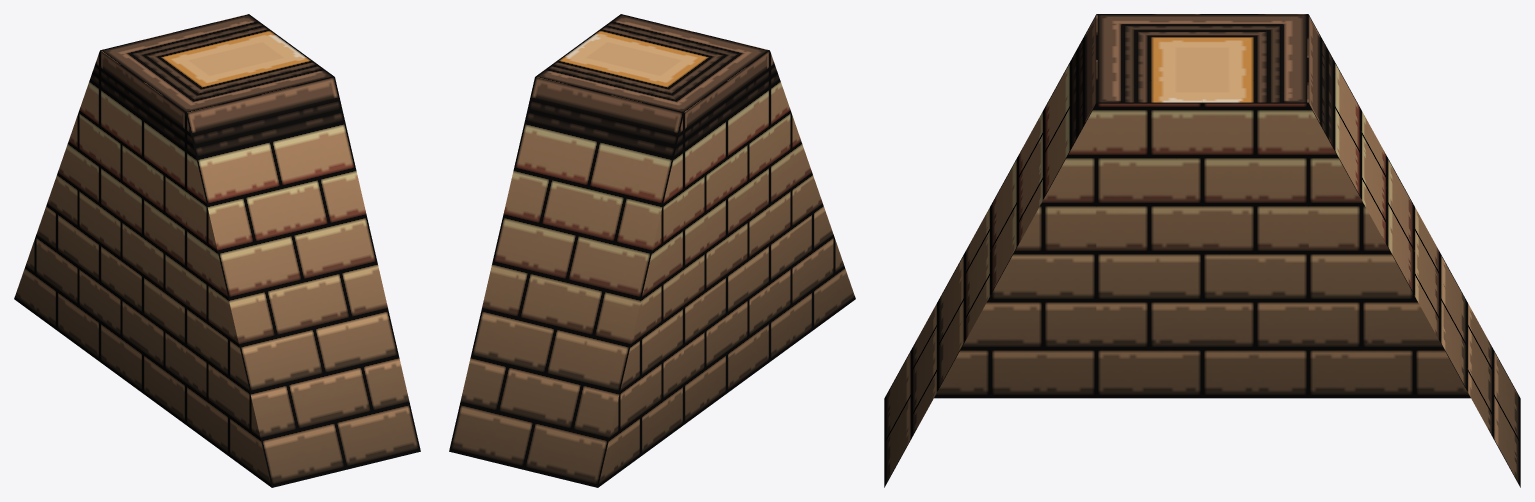
The model's file is wall_edgeAll.FBX.
The picture shows the model from 3 angles, left to right: view 1: azimuth 30°, elevation 25°; view 2: azimuth 150°, elevation 25°; view 3: azimuth 270°, elevation 25°; orthographic projection. The views are drawn at different scales.
Parts seen in each view (by area): view 1: wall_edgeAll; view 2: wall_edgeAll; view 3: wall_edgeAll.
Part boxes in pixels (x1,y1,x2,y2): wall_edgeAll: [14, 14, 420, 487]; wall_edgeAll: [449, 14, 855, 487]; wall_edgeAll: [884, 14, 1520, 487].
Size of the model in its own units: 2 by 4 by 6.
1 material, 1 textured.
